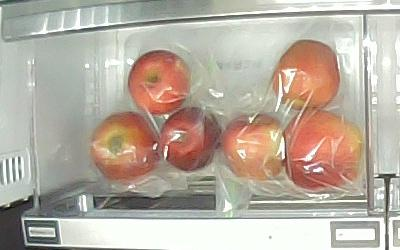apple_vinyl: (283, 110, 363, 191), (272, 39, 341, 111), (90, 111, 159, 181), (127, 50, 192, 115), (158, 107, 223, 172), (222, 113, 285, 180)
